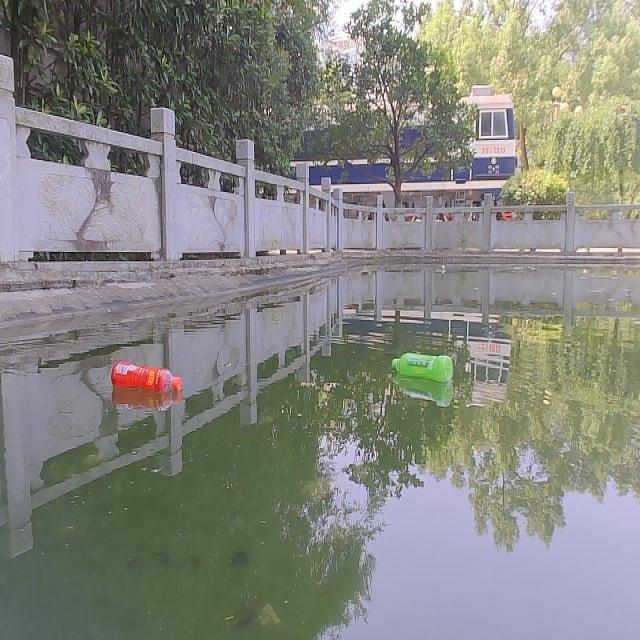bottle: (109, 362, 183, 394), (389, 349, 455, 380)
